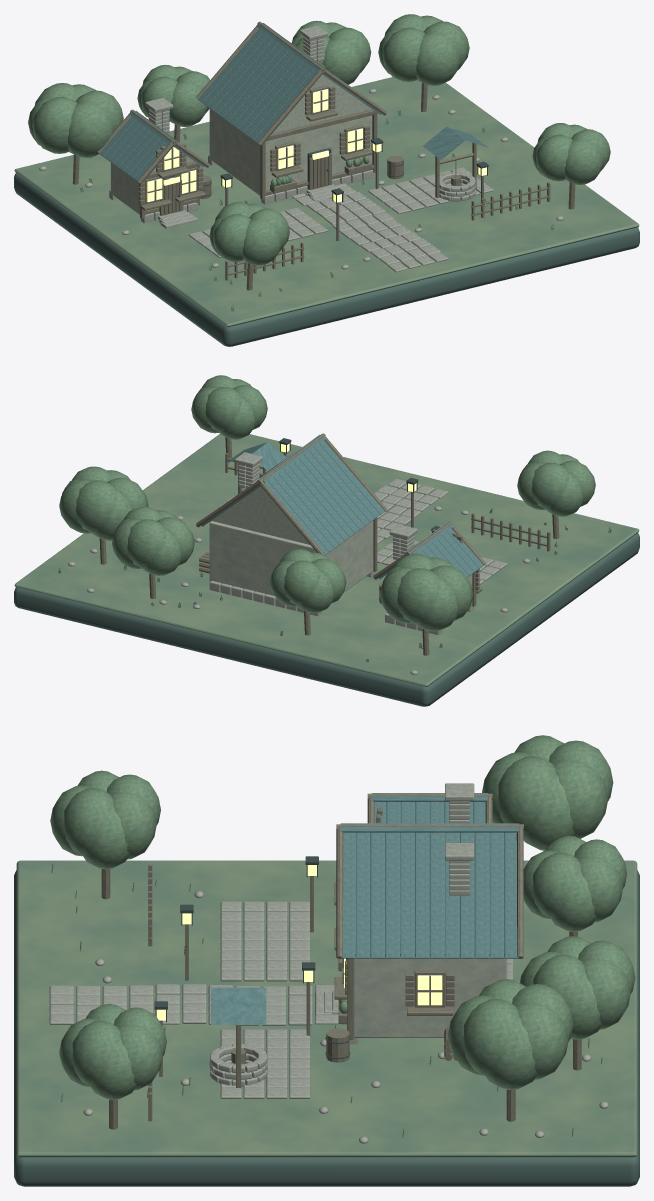
File: courtyard.glb
3 views of the same model, one above another, from view 1: azimuth 30°, elevation 25°; view 2: azimuth 150°, elevation 25°; view 3: azimuth 270°, elevation 25° (orthographic). The views are drawn at different scales.
Visible parts, largest first — view 1: Courtyard · Mossy soil, Courtyard · Soft foliage, Courtyard · Weathered oak, Courtyard · Earth cut edge, Courtyard · Hand cut sandstone, Courtyard · Blue slate tiles, Courtyard · Sage limewash, Courtyard · Amber window glass, Courtyard · Blackened iron; view 2: Courtyard · Mossy soil, Courtyard · Soft foliage, Courtyard · Earth cut edge, Courtyard · Blue slate tiles, Courtyard · Sage limewash, Courtyard · Hand cut sandstone, Courtyard · Weathered oak; view 3: Courtyard · Mossy soil, Courtyard · Soft foliage, Courtyard · Blue slate tiles, Courtyard · Hand cut sandstone, Courtyard · Earth cut edge, Courtyard · Weathered oak, Courtyard · Sage limewash, Courtyard · Amber window glass, Courtyard · Blackened iron.
Boxes of the visible parts, x1,y1,x2,y2 form: Courtyard · Mossy soil: (14, 77, 639, 327); Courtyard · Soft foliage: (28, 14, 610, 311); Courtyard · Weathered oak: (72, 21, 575, 290); Courtyard · Earth cut edge: (14, 173, 639, 346); Courtyard · Hand cut sandstone: (39, 25, 563, 272); Courtyard · Blue slate tiles: (99, 23, 488, 182); Courtyard · Sage limewash: (110, 74, 372, 214); Courtyard · Amber window glass: (147, 89, 486, 202); Courtyard · Blackened iron: (159, 138, 488, 214); Courtyard · Mossy soil: (14, 434, 639, 686); Courtyard · Soft foliage: (58, 375, 611, 661); Courtyard · Earth cut edge: (14, 533, 639, 706); Courtyard · Blue slate tiles: (201, 434, 483, 578); Courtyard · Sage limewash: (209, 486, 472, 612); Courtyard · Hand cut sandstone: (68, 452, 530, 674); Courtyard · Weathered oak: (99, 433, 559, 655); Courtyard · Mossy soil: (16, 860, 637, 1157); Courtyard · Soft foliage: (50, 735, 635, 1137); Courtyard · Blue slate tiles: (211, 793, 519, 1024); Courtyard · Hand cut sandstone: (49, 783, 608, 1143); Courtyard · Earth cut edge: (14, 870, 639, 1186); Courtyard · Weathered oak: (101, 793, 581, 1129); Courtyard · Sage limewash: (353, 955, 507, 1037); Courtyard · Amber window glass: (156, 865, 442, 1020); Courtyard · Blackened iron: (154, 856, 350, 1059).
Size of the model in its own units: 19.42 by 6.55 by 17.
10 materials, 6 textured.
